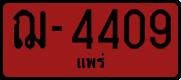letters: (11, 9, 48, 50), (69, 7, 94, 50), (147, 8, 172, 50), (96, 7, 120, 50), (122, 7, 146, 49)
province: (74, 51, 108, 70)
